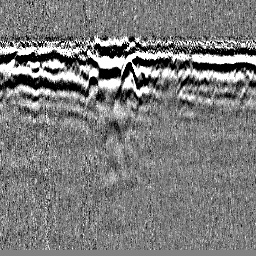cavity: (118, 53, 138, 90)
